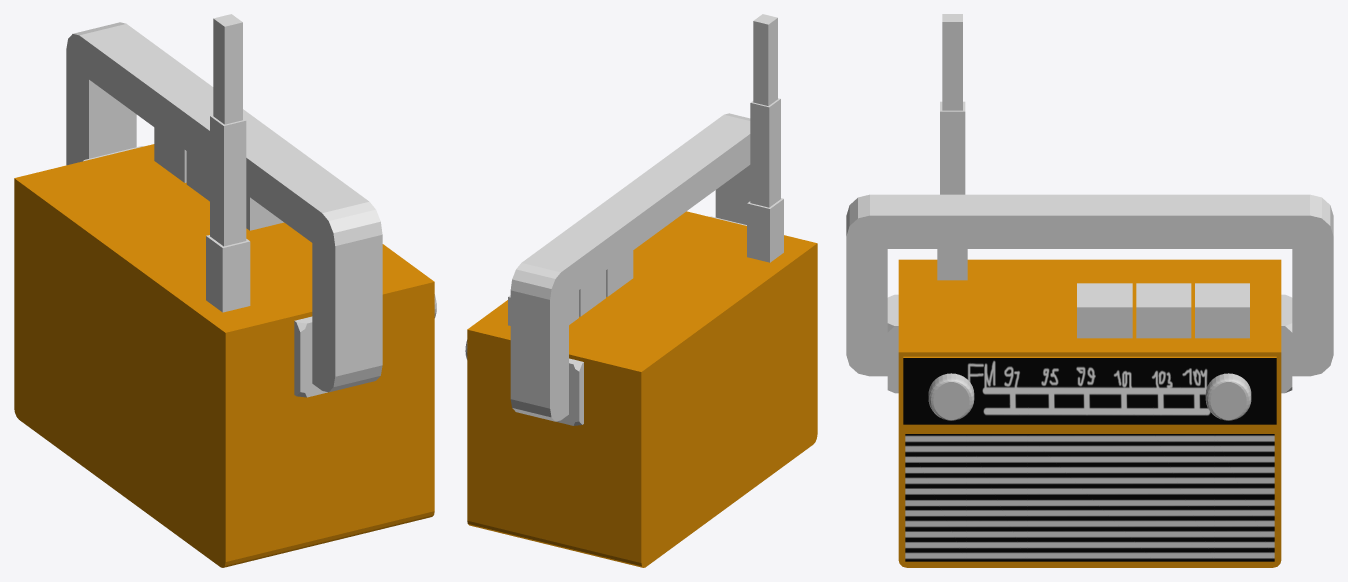
Rendered from Radio.fbx.
3 renders of one model, left to right at view 1: azimuth 30°, elevation 25°; view 2: azimuth 150°, elevation 25°; view 3: azimuth 270°, elevation 25°, orthographic. The views are drawn at different scales.
Parts seen in each view (by area): view 1: Base; view 2: Base; view 3: Base, Cylinder.
Part boxes in pixels (x1,y1,x2,y2): Base: (14, 14, 434, 567); Base: (467, 14, 817, 567); Base: (846, 14, 1333, 567); Cylinder: (928, 373, 1251, 420).
Size of the model in its own units: 202 by 438 by 409.
6 materials, 2 textured.
